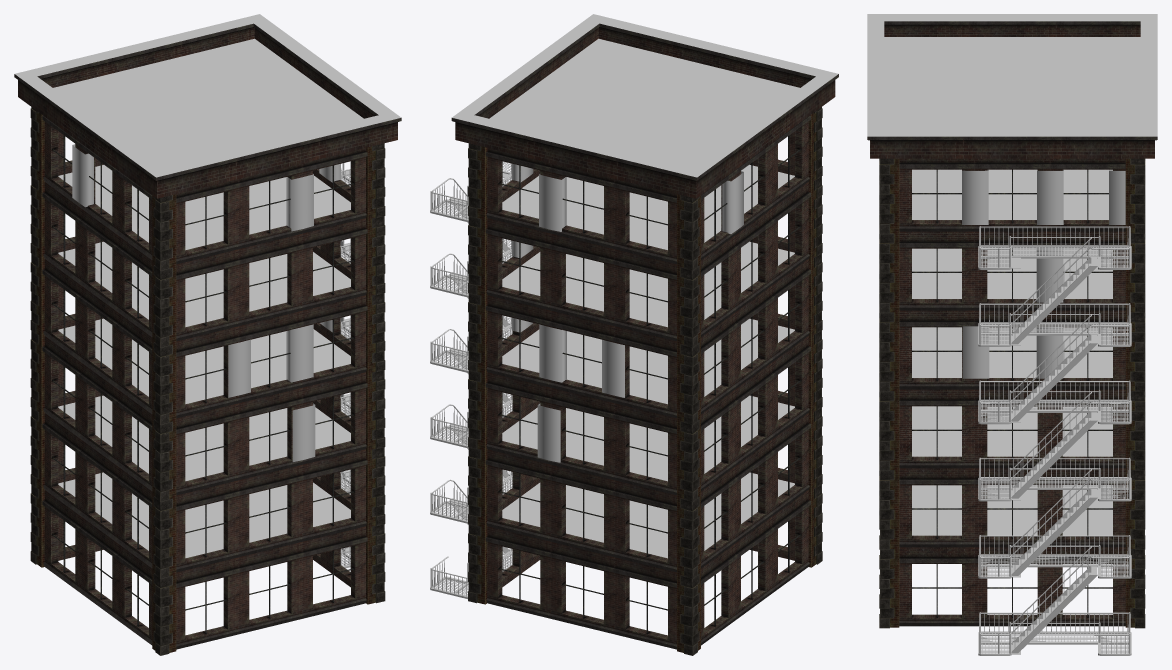
File: BuildingRedSm01_stairs.fbx
3 views of the same model, side by side, from view 1: azimuth 30°, elevation 25°; view 2: azimuth 150°, elevation 25°; view 3: azimuth 270°, elevation 25° (orthographic). The views are drawn at different scales.
Parts seen in each view (by area): view 1: Cube.423, Cube.424, Plane.065, Plane.068, Plane.066, Plane.067, Plane.069, Cube.466, Cube.465, Cube.468, Cube.158, Cube.467 (+1 smaller); view 2: Cube.423, Cube.424, Cube.158, Plane.065, Plane.068, Plane.066, Plane.067, Plane.069, Cube.471, Cube.470, Cube.469, Cube.472 (+1 smaller); view 3: Cube.423, Cube.424, Cube.158, Plane.069, Plane.065, Plane.066, Plane.068, Plane.067, Cube.460, Cube.459, Cube.464, Cube.462 (+2 smaller).
Part boxes in pixels (x1,y1,x2,y2): Cube.423: (30, 107, 385, 655); Cube.424: (14, 14, 401, 198); Plane.065: (58, 472, 350, 558); Plane.068: (58, 241, 350, 327); Plane.066: (58, 395, 350, 481); Plane.067: (58, 318, 350, 404); Plane.069: (58, 165, 350, 250); Cube.466: (286, 324, 313, 382); Cube.465: (286, 174, 313, 231); Cube.468: (292, 403, 315, 461); Cube.158: (340, 163, 350, 568); Cube.467: (228, 339, 250, 397); Cube.423: (468, 107, 822, 655); Cube.424: (451, 14, 838, 198); Cube.158: (430, 161, 512, 598); Plane.065: (502, 472, 794, 558); Plane.068: (502, 241, 794, 327); Plane.066: (502, 395, 794, 481); Plane.067: (502, 318, 794, 404); Plane.069: (502, 164, 794, 249); Cube.471: (539, 324, 566, 382); Cube.470: (539, 174, 566, 231); Cube.469: (537, 403, 560, 462); Cube.472: (602, 339, 624, 397); Cube.423: (879, 158, 1145, 628); Cube.424: (867, 14, 1157, 158); Cube.158: (978, 226, 1131, 655); Plane.069: (912, 169, 1108, 219); Plane.065: (912, 485, 1112, 535); Plane.066: (912, 406, 1112, 456); Plane.068: (912, 248, 1112, 298); Plane.067: (912, 327, 1112, 377); Cube.460: (962, 169, 988, 224); Cube.459: (1037, 169, 1063, 224); Cube.464: (962, 326, 989, 378); Cube.462: (1036, 248, 1063, 302).
Size of what is drawn, in the model's own units: 1556 by 2595 by 1360.
